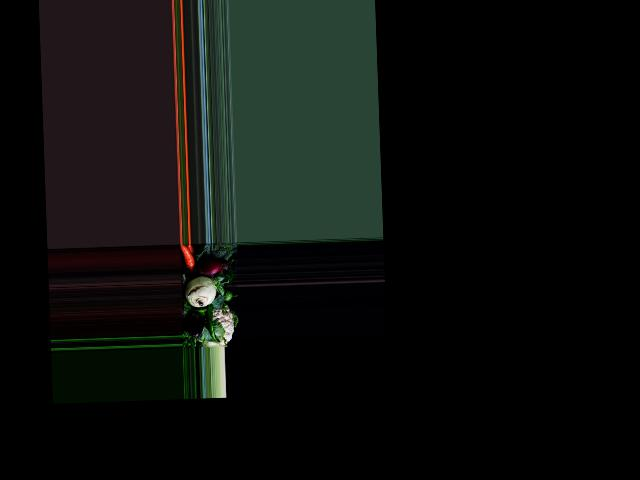carrot: (178, 243, 199, 272)
